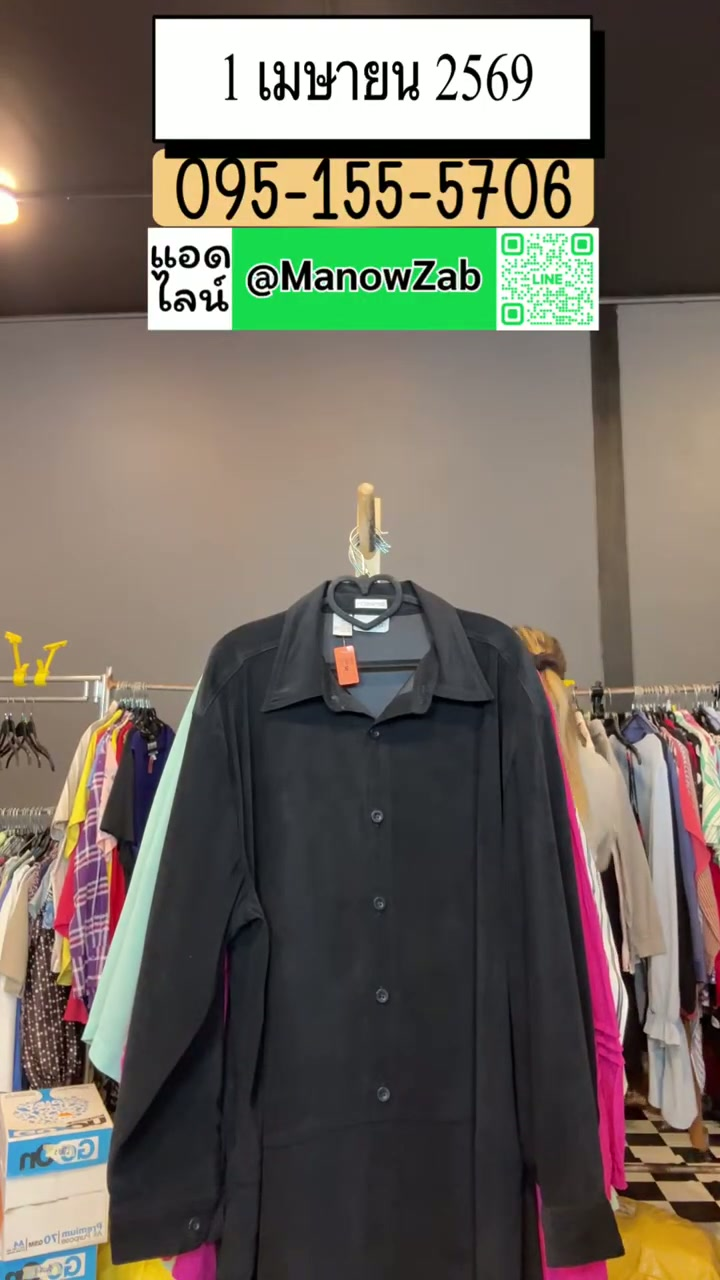display_shirt: (109, 580, 621, 1279)
